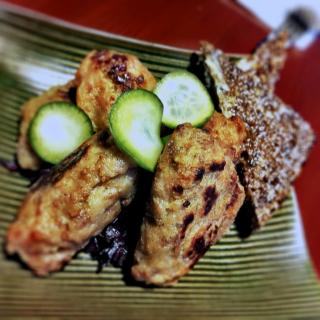Cucumber: (108, 88, 165, 170), (154, 64, 225, 129), (29, 102, 92, 166)
